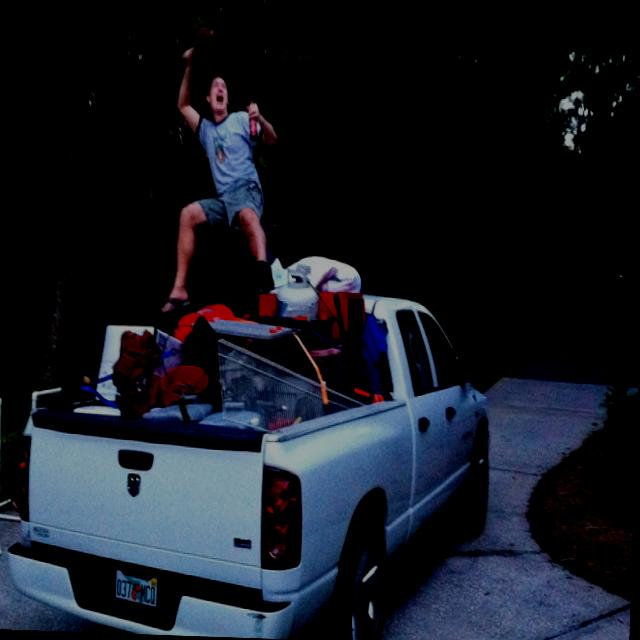Vehicle: (3, 210, 498, 640)
